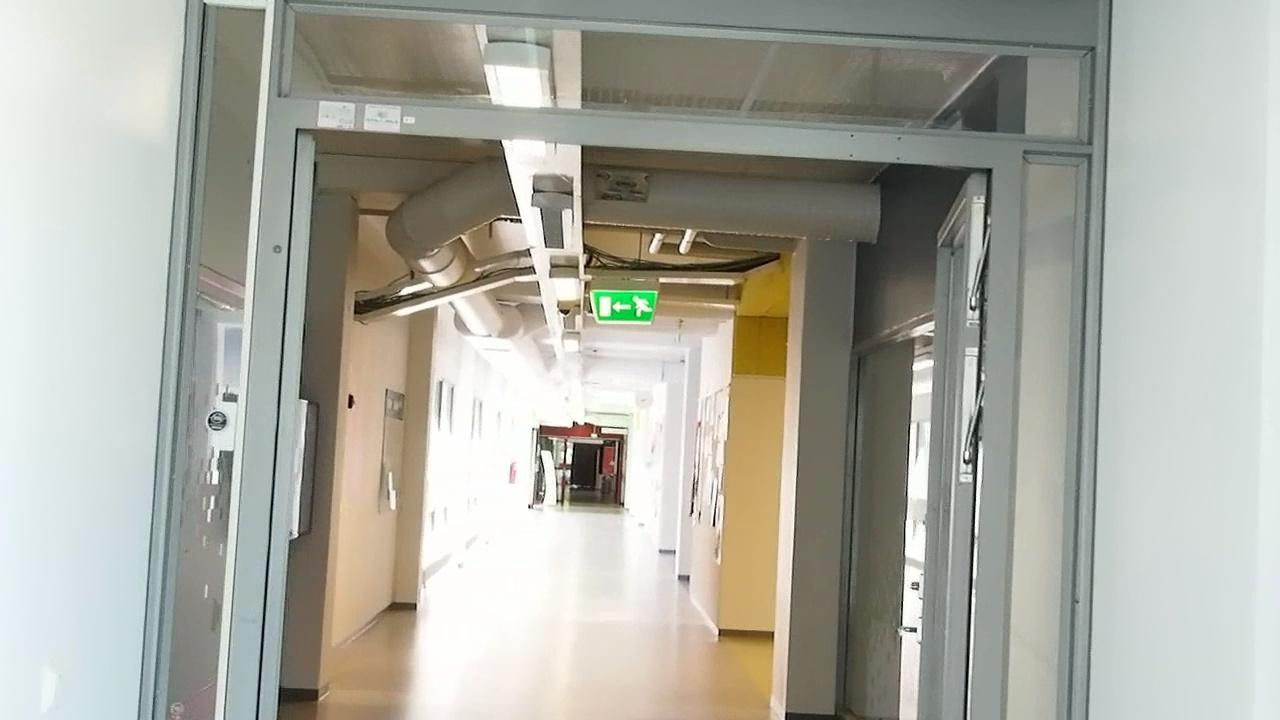exit: (591, 287, 661, 328)
